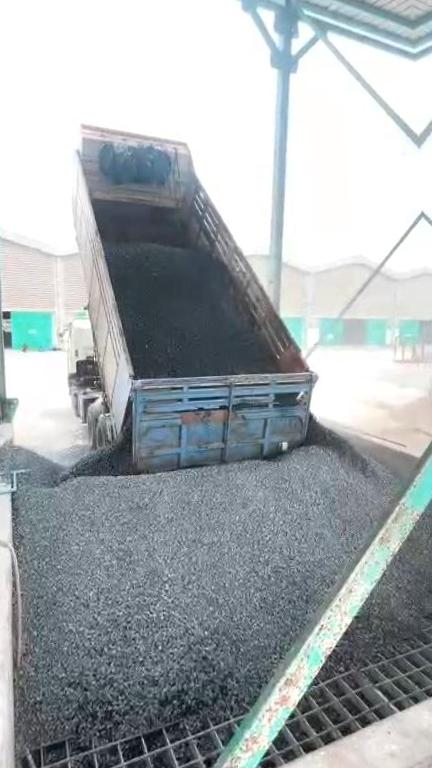gravel: (0, 427, 400, 746), (107, 241, 272, 377), (324, 500, 432, 674), (49, 425, 90, 468)
sand: (371, 393, 432, 457)
